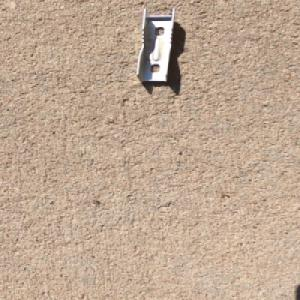ClampPart: (132, 7, 178, 85)
